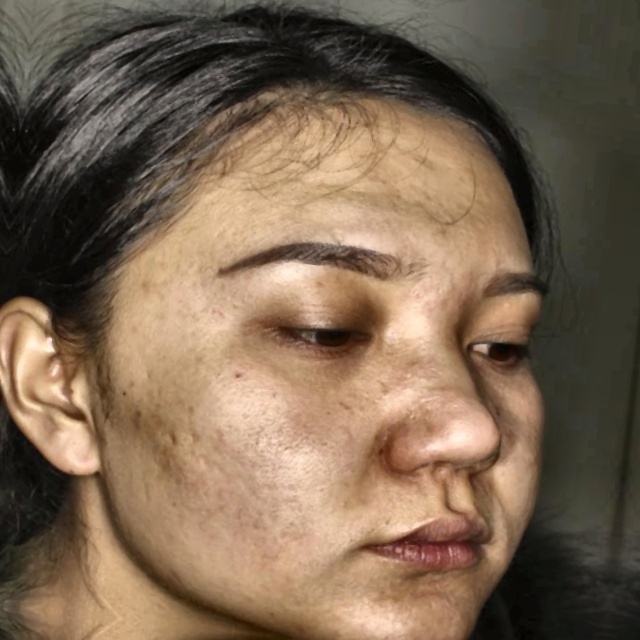comedone: (129, 403, 153, 422)
